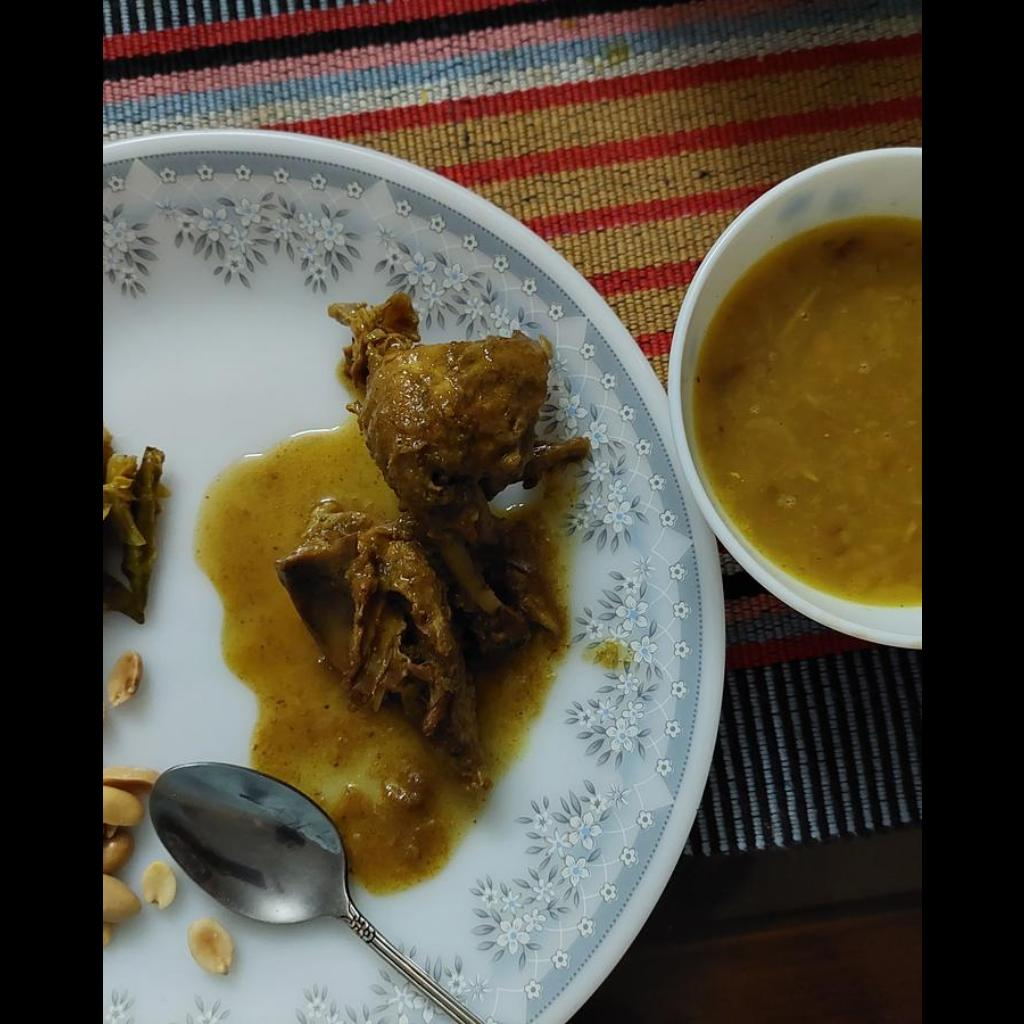badam: (102, 767, 175, 947), (186, 918, 233, 974), (109, 656, 137, 702)
chicken: (279, 287, 593, 783)
daal: (686, 217, 920, 600)
vegetable: (102, 428, 166, 622)
